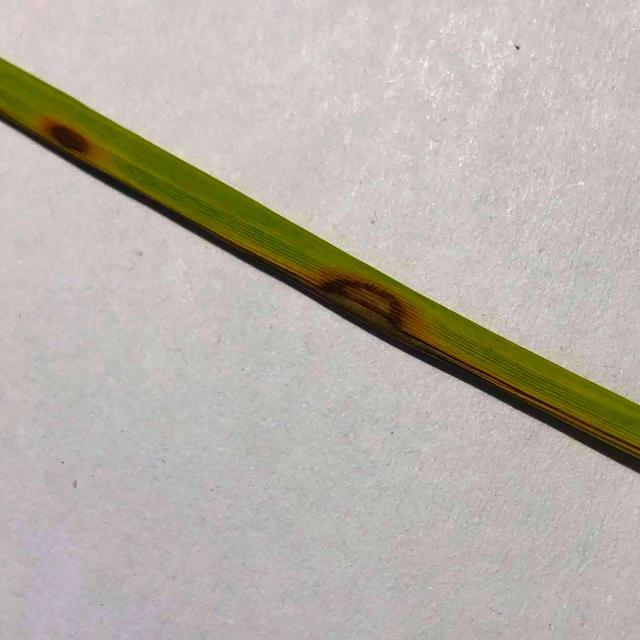Blast: (338, 278, 406, 318)
